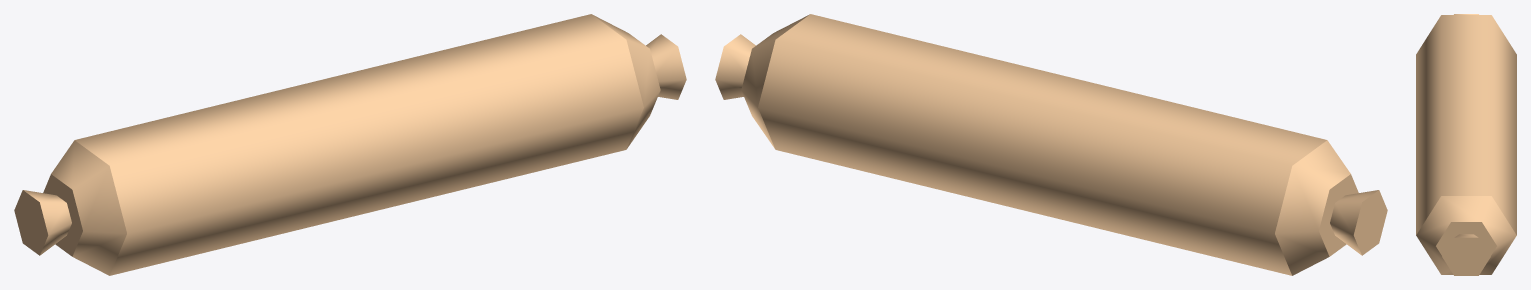
The model's file is hotDogRaw.obj.
The picture shows the model from 3 angles, left to right: view 1: azimuth 30°, elevation 25°; view 2: azimuth 150°, elevation 25°; view 3: azimuth 270°, elevation 25°; orthographic projection. The views are drawn at different scales.
Parts seen in each view (by area): view 1: hotDogRaw; view 2: hotDogRaw; view 3: hotDogRaw.
Part boxes in pixels (<box>): hotDogRaw: <box>14,14,686,275</box>; hotDogRaw: <box>715,14,1387,275</box>; hotDogRaw: <box>1416,14,1516,275</box>.
Size of the model in its own units: 0.5859 by 0.0966 by 0.1116.
